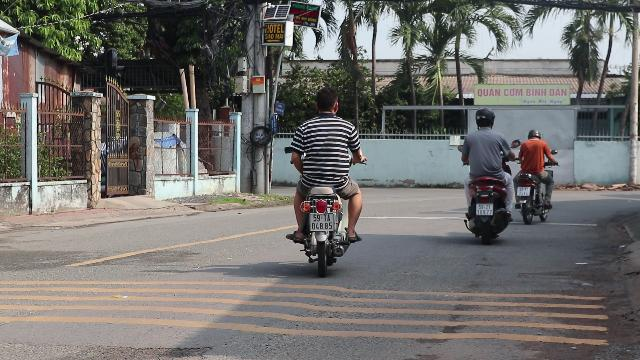helmet: (474, 108, 494, 128)
licenseplate: (310, 213, 334, 231), (477, 204, 493, 214)
motorcyclist: (282, 84, 368, 272), (457, 107, 513, 243)
nohelmet: (314, 86, 341, 116)
